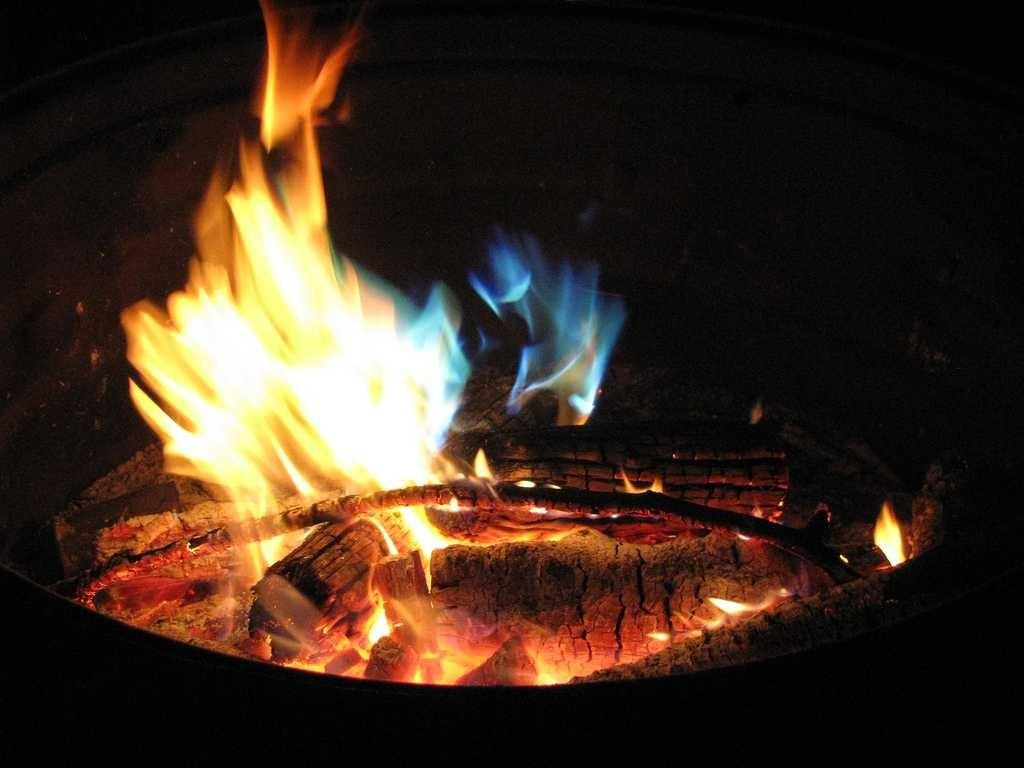fire: (130, 314, 444, 485), (264, 0, 341, 291), (515, 267, 608, 414)
